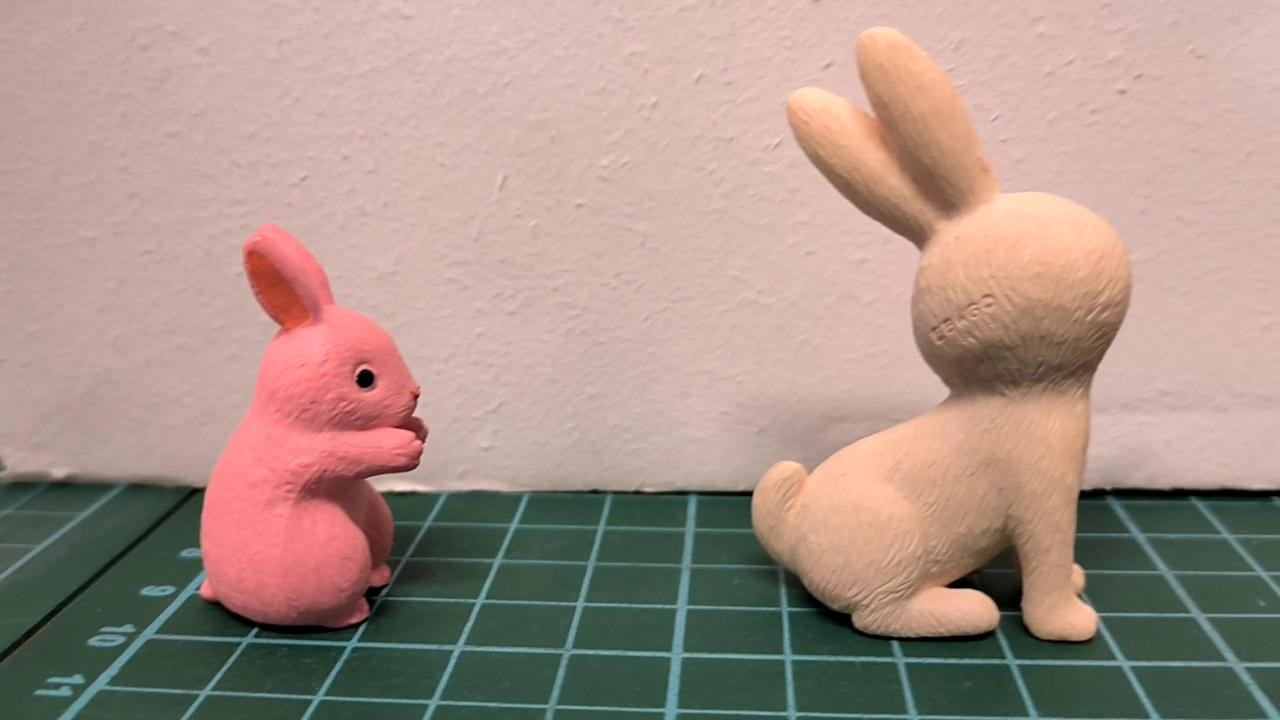pet: (752, 22, 1134, 641), (199, 225, 430, 630)
